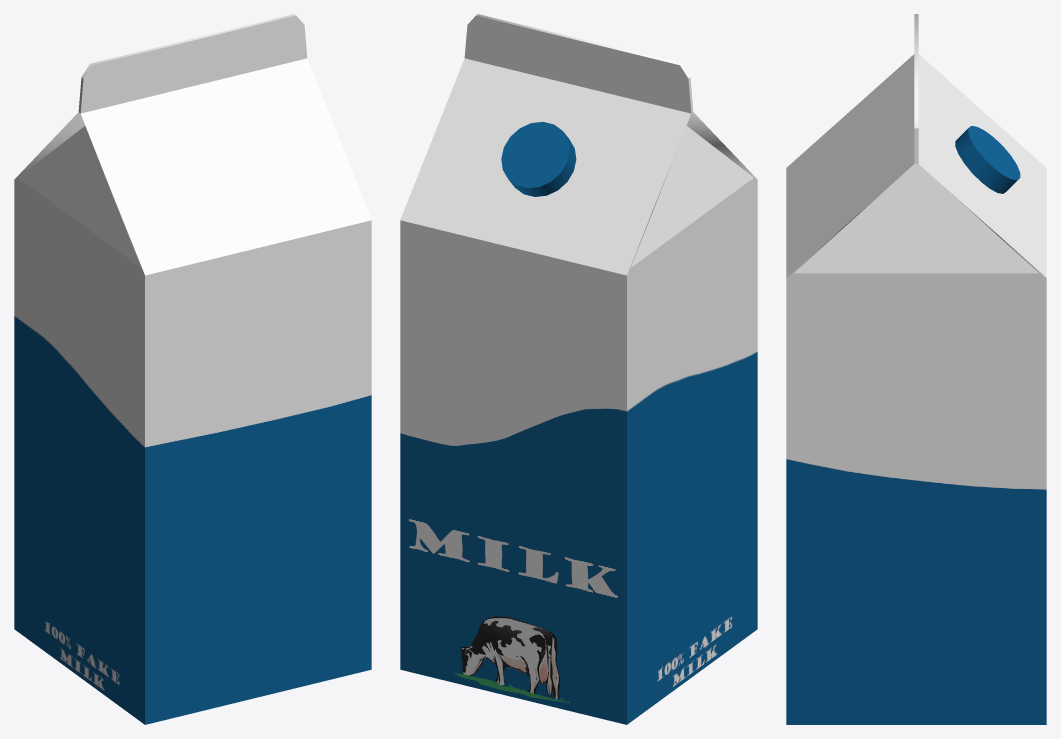
The model's file is Millk.fbx.
3 views of the same model, side by side, from view 1: azimuth 30°, elevation 25°; view 2: azimuth 150°, elevation 25°; view 3: azimuth 270°, elevation 25° (orthographic).
Parts seen in each view (by area): view 1: Box001; view 2: Box001; view 3: Box001.
Boxes of the visible parts, x1=… form: Box001: x1=14, y1=14, x2=371, y2=724; Box001: x1=400, y1=14, x2=757, y2=724; Box001: x1=786, y1=14, x2=1046, y2=724.
Bounding box in the file's own units: 17.43 × 44.8 × 17.43.
Materials: 1 (1 with a texture image).
